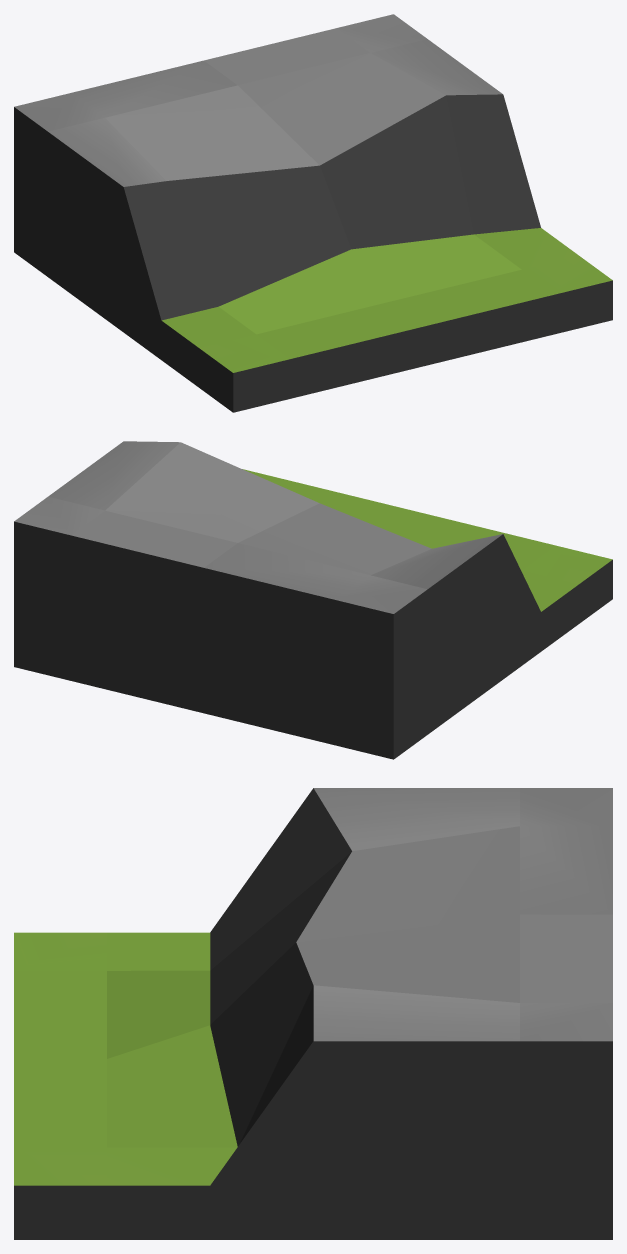
The model's file is rock_line.fbx.
3 renders of one model, top to bottom at view 1: azimuth 30°, elevation 25°; view 2: azimuth 150°, elevation 25°; view 3: azimuth 270°, elevation 25°, orthographic. The views are drawn at different scales.
Visible parts, largest first — view 1: rock; view 2: rock; view 3: rock.
Part boxes in pixels (<box>): rock: <box>14,14,612,412</box>; rock: <box>14,441,612,759</box>; rock: <box>14,788,612,1239</box>.
Bounding box in the file's own units: 200 × 200 × 79.79.
Materials: 1 (1 with a texture image).
